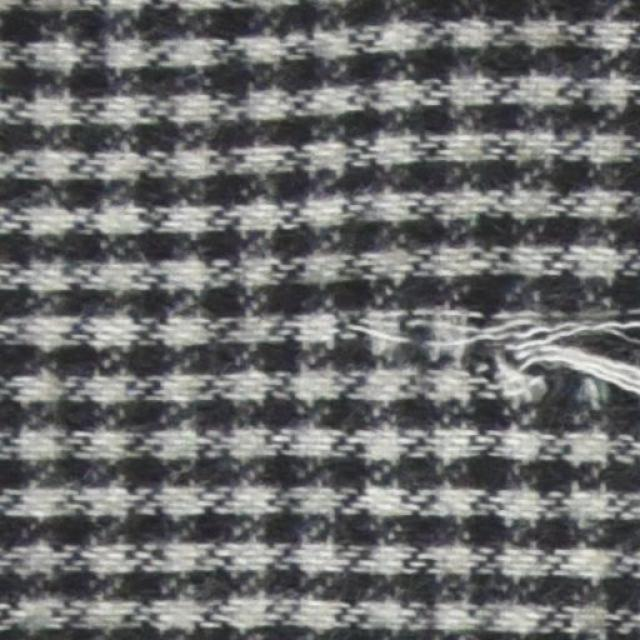Snag: (349, 277, 639, 445)
